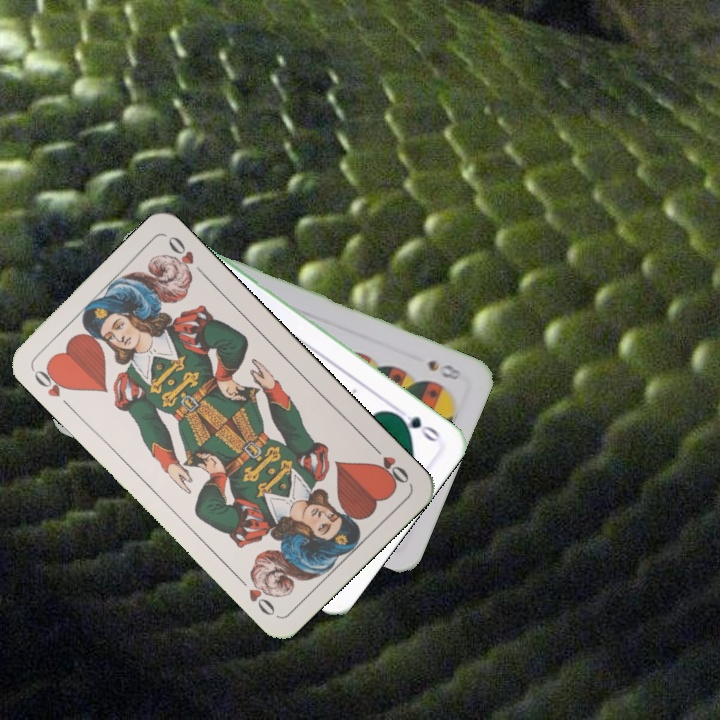GO: (389, 403, 443, 445)
HO: (366, 440, 412, 488), (28, 361, 74, 400)
S8: (423, 356, 464, 383)
